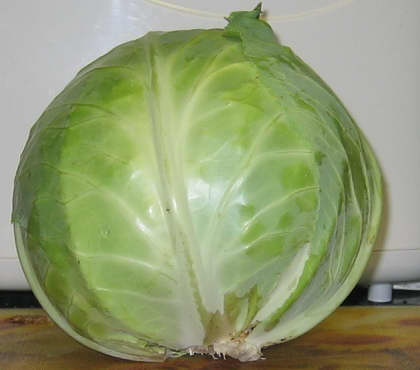cabbage: (10, 0, 386, 363)
